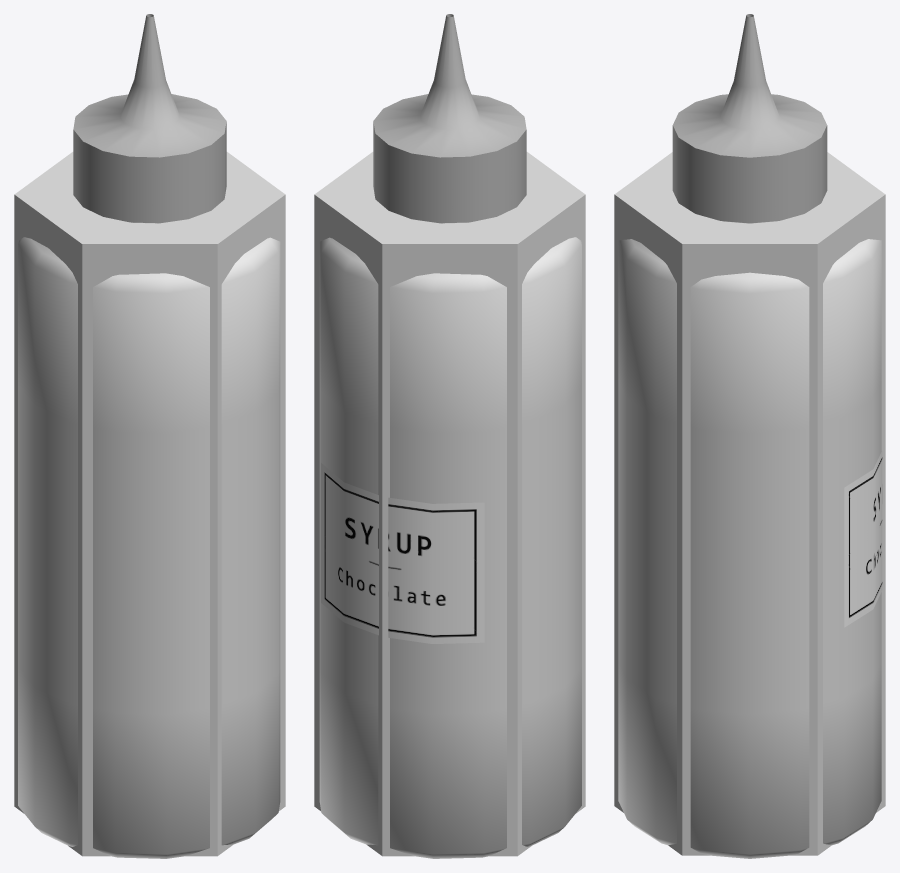
Rendered from Syrup_Chocolate.fbx.
3 renders of one model, left to right at view 1: azimuth 30°, elevation 25°; view 2: azimuth 150°, elevation 25°; view 3: azimuth 270°, elevation 25°, orthographic.
Parts seen in each view (by area): view 1: Syrup, Colision_Syrup; view 2: Syrup, Colision_Syrup; view 3: Syrup, Colision_Syrup.
Part boxes in pixels (bbox=[...]): Syrup: bbox=[18, 14, 280, 858]; Colision_Syrup: bbox=[14, 152, 285, 856]; Syrup: bbox=[319, 14, 581, 858]; Colision_Syrup: bbox=[314, 152, 585, 856]; Syrup: bbox=[618, 14, 882, 858]; Colision_Syrup: bbox=[614, 152, 885, 855].
Size of the model in its own units: 0.0711 by 0.0724 by 0.233.
